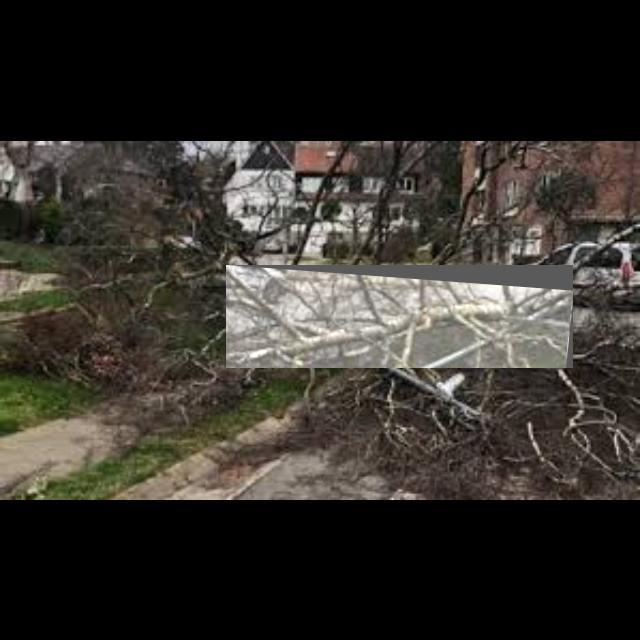fallen_tree: (226, 265, 574, 369)
